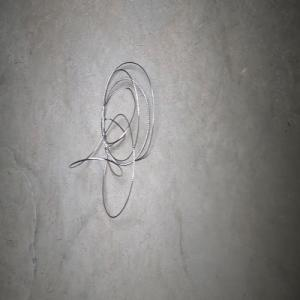Wire: (68, 61, 154, 217)
